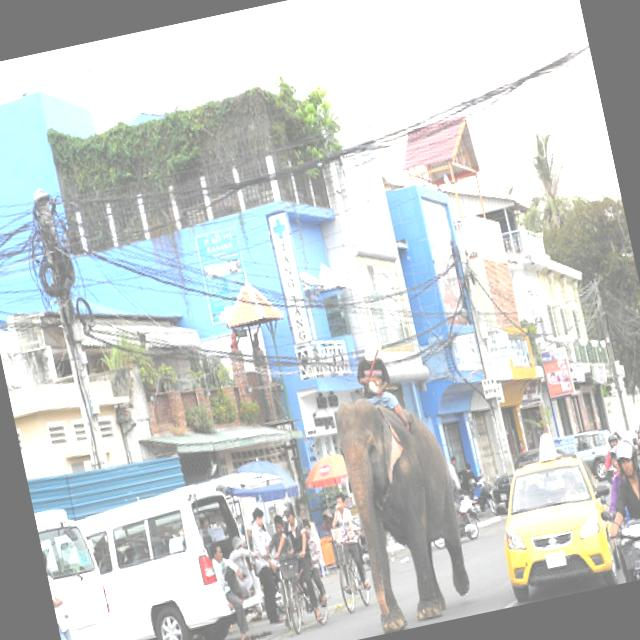Vehicle: (73, 477, 269, 640), (81, 487, 260, 640), (481, 424, 628, 604), (33, 499, 121, 640), (597, 491, 640, 584), (572, 426, 618, 482), (428, 505, 483, 551), (630, 409, 640, 460), (600, 461, 618, 485)
